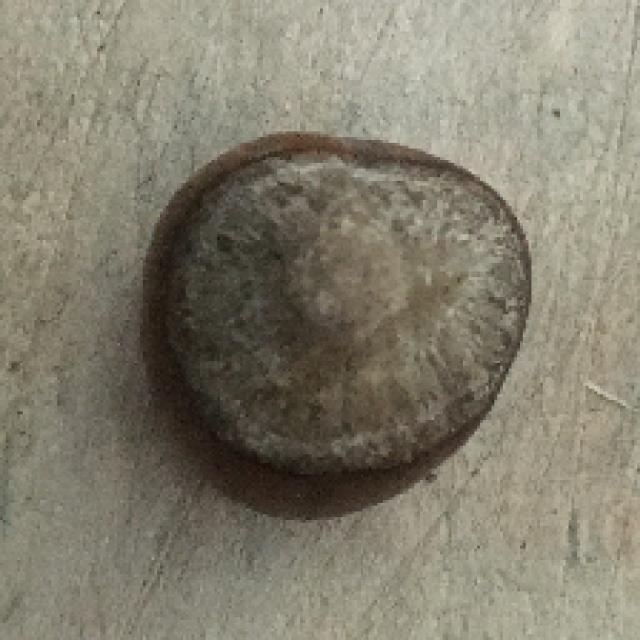damagedHazelnut: (132, 128, 535, 522)
